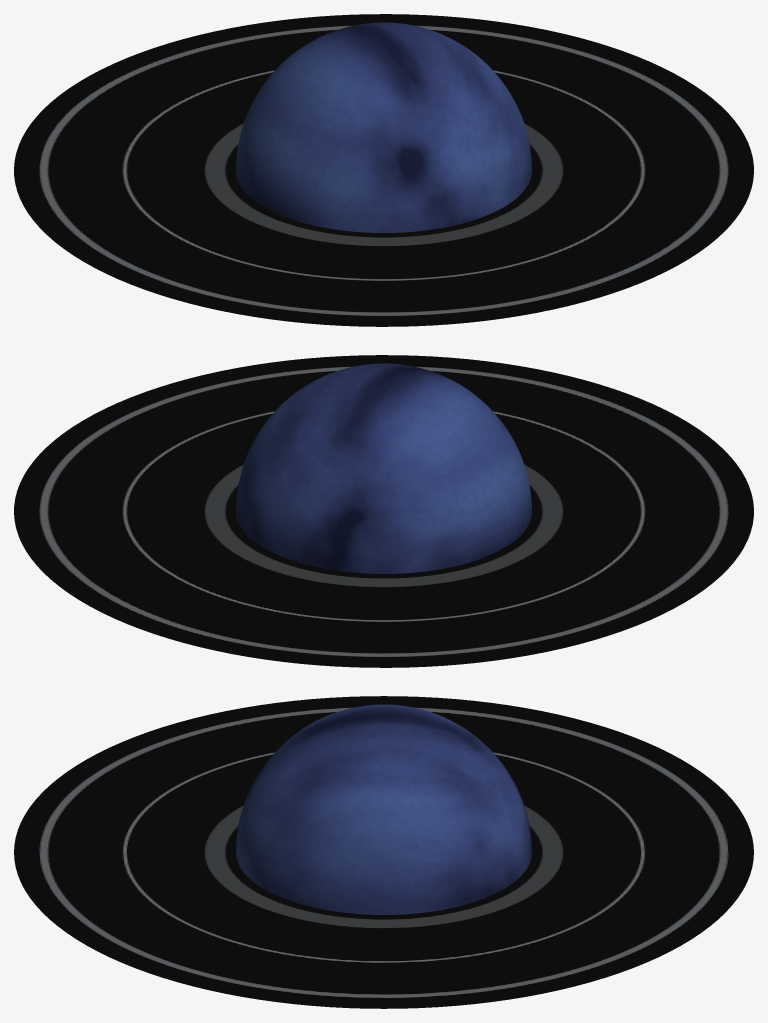
File: Neptune_Baked.glb
The picture shows the model from 3 angles, top to bottom: view 1: azimuth 30°, elevation 25°; view 2: azimuth 150°, elevation 25°; view 3: azimuth 270°, elevation 25°; orthographic projection.
Visible parts, largest first — view 1: Neptune_Rings, Neptune_Surface; view 2: Neptune_Rings, Neptune_Surface; view 3: Neptune_Rings, Neptune_Surface.
Part boxes in pixels (left/top/right/bottom): Neptune_Rings: left=14, top=14, right=753, bottom=326; Neptune_Surface: left=236, top=22, right=531, bottom=232; Neptune_Rings: left=14, top=355, right=753, bottom=667; Neptune_Surface: left=236, top=363, right=531, bottom=573; Neptune_Rings: left=14, top=696, right=753, bottom=1008; Neptune_Surface: left=236, top=704, right=531, bottom=914.
Size of the model in its own units: 750 by 300 by 750.
Materials: 2 (2 with a texture image).
